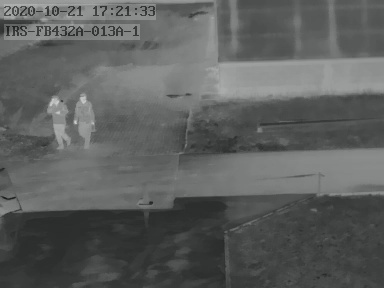person: (71, 91, 96, 148), (46, 94, 69, 149)
